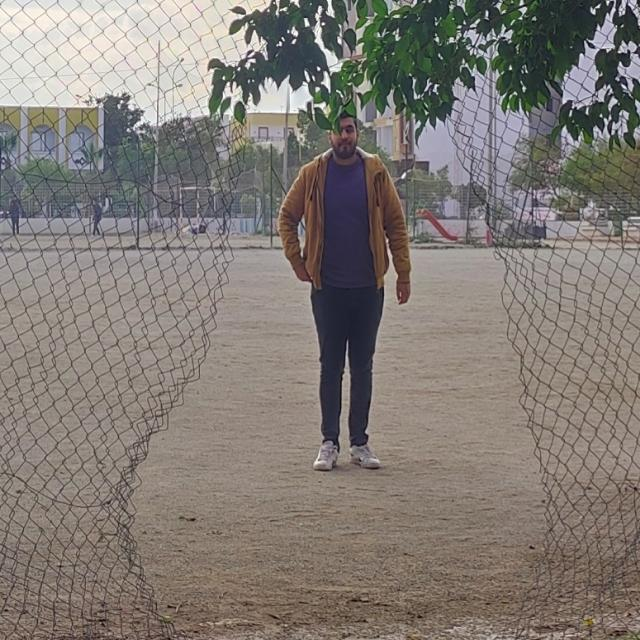fence line: (116, 60, 562, 624)
